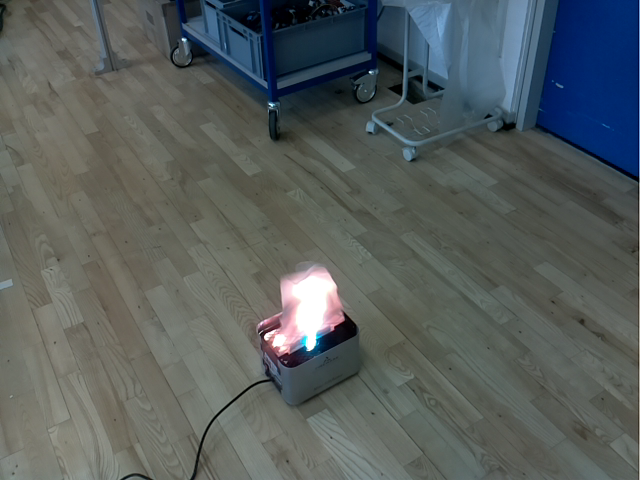fire: (275, 261, 345, 357)
